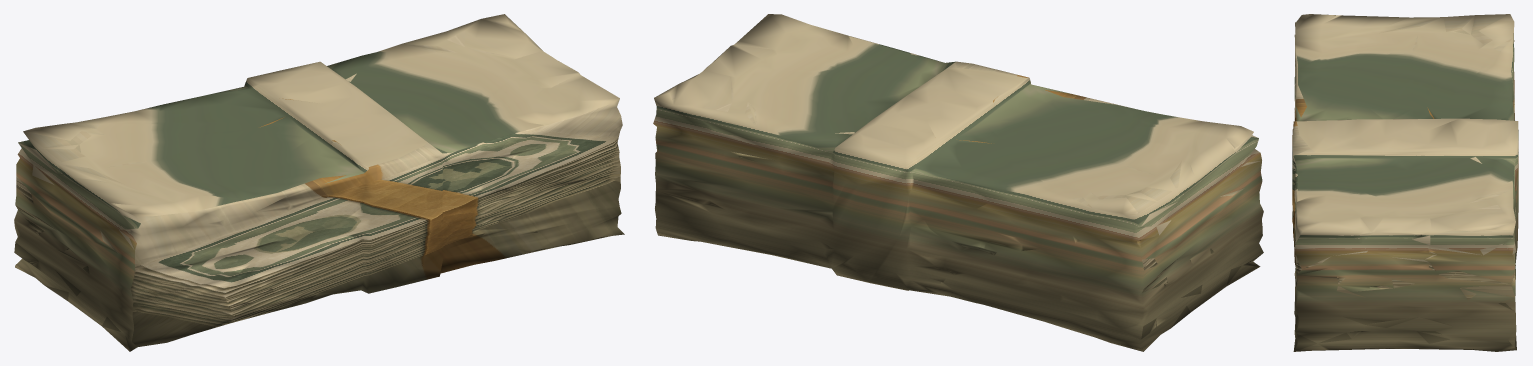
Rendered from asset_bills.glb.
3 views of the same model, side by side, from view 1: azimuth 30°, elevation 25°; view 2: azimuth 150°, elevation 25°; view 3: azimuth 270°, elevation 25° (orthographic). The views are drawn at different scales.
Parts seen in each view (by area): view 1: geometry_0; view 2: geometry_0; view 3: geometry_0.
Part boxes in pixels (x1=…): geometry_0: x1=14, y1=14, x2=624, y2=351; geometry_0: x1=653, y1=14, x2=1263, y2=351; geometry_0: x1=1292, y1=14, x2=1518, y2=351.
Size of the model in its own units: 0.9488 by 0.25 by 0.4146.
Materials: 1 (1 with a texture image).
